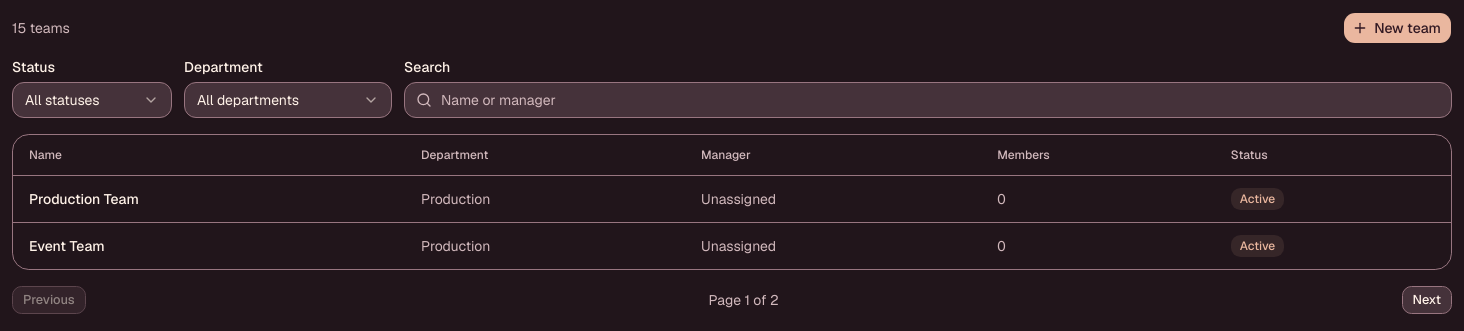
Test: TeamsManager API integration › requests the next page from the server
This screenshot has width=1464, height=331.
Expected: the text "Page 1 of 2" is shown, top-left (708, 290), bottom-right (779, 310)
Click the button "Next". click: (1427, 300)
box: top-left (1402, 286), bottom-right (1452, 314)
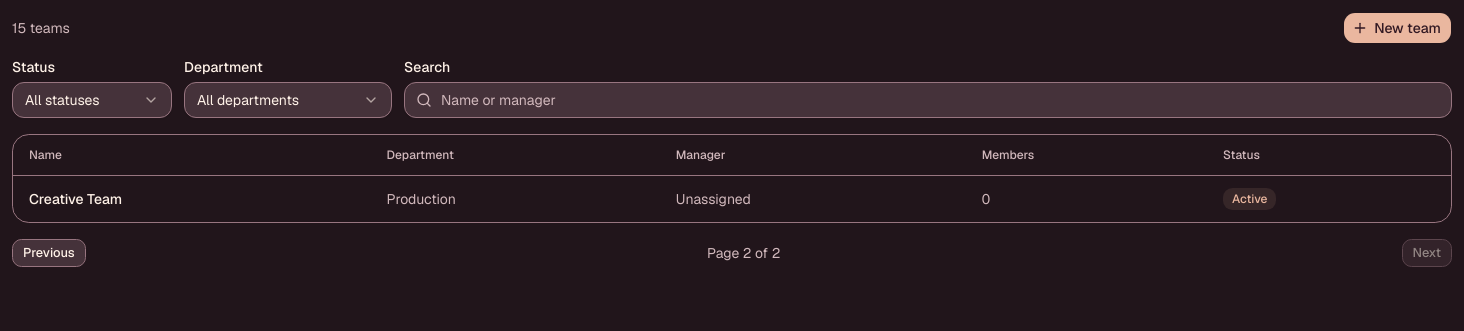
Expected: the button "Creative Team" is shown, top-left (29, 189), bottom-right (122, 209)
